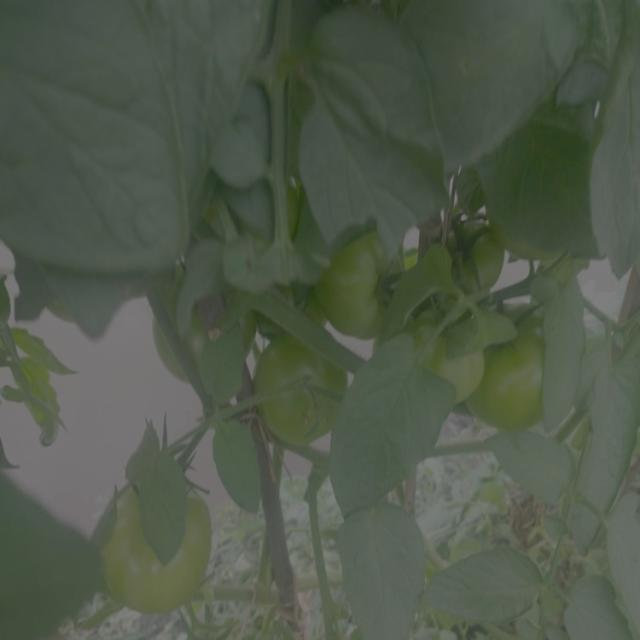tomato: (101, 484, 213, 613), (255, 332, 350, 445), (311, 230, 405, 326), (408, 309, 483, 409), (486, 317, 548, 434), (436, 217, 508, 294), (160, 300, 209, 379)
